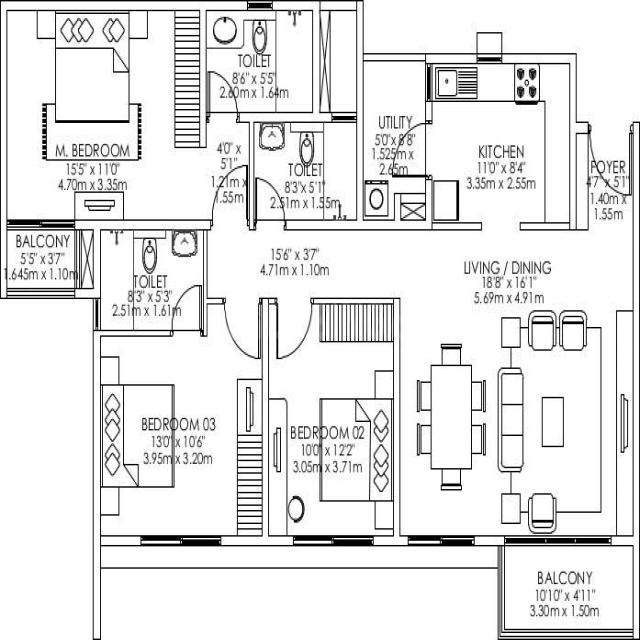Balcony-Sitout: (504, 546, 634, 630), (7, 232, 75, 293)
Bedroom: (101, 333, 264, 550), (263, 302, 401, 550)
Bedroom with Toilet: (9, 11, 202, 222)
Dining: (414, 341, 487, 494)
Enterance-Foyer: (577, 115, 639, 269)
Kitchen: (427, 61, 571, 222)
Living: (494, 298, 640, 544)
Toilet: (250, 114, 363, 230), (205, 10, 314, 118), (101, 233, 203, 337)
Utility: (362, 57, 427, 226)
